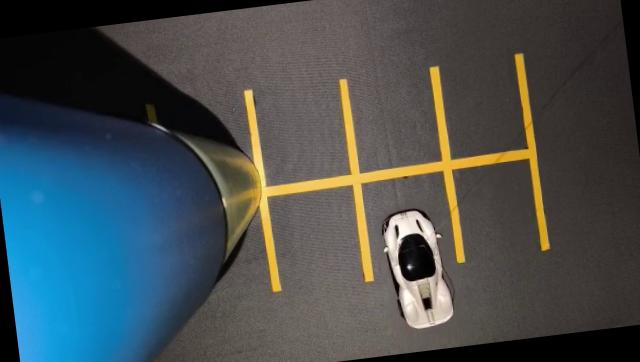toy_car: (364, 192, 465, 340)
